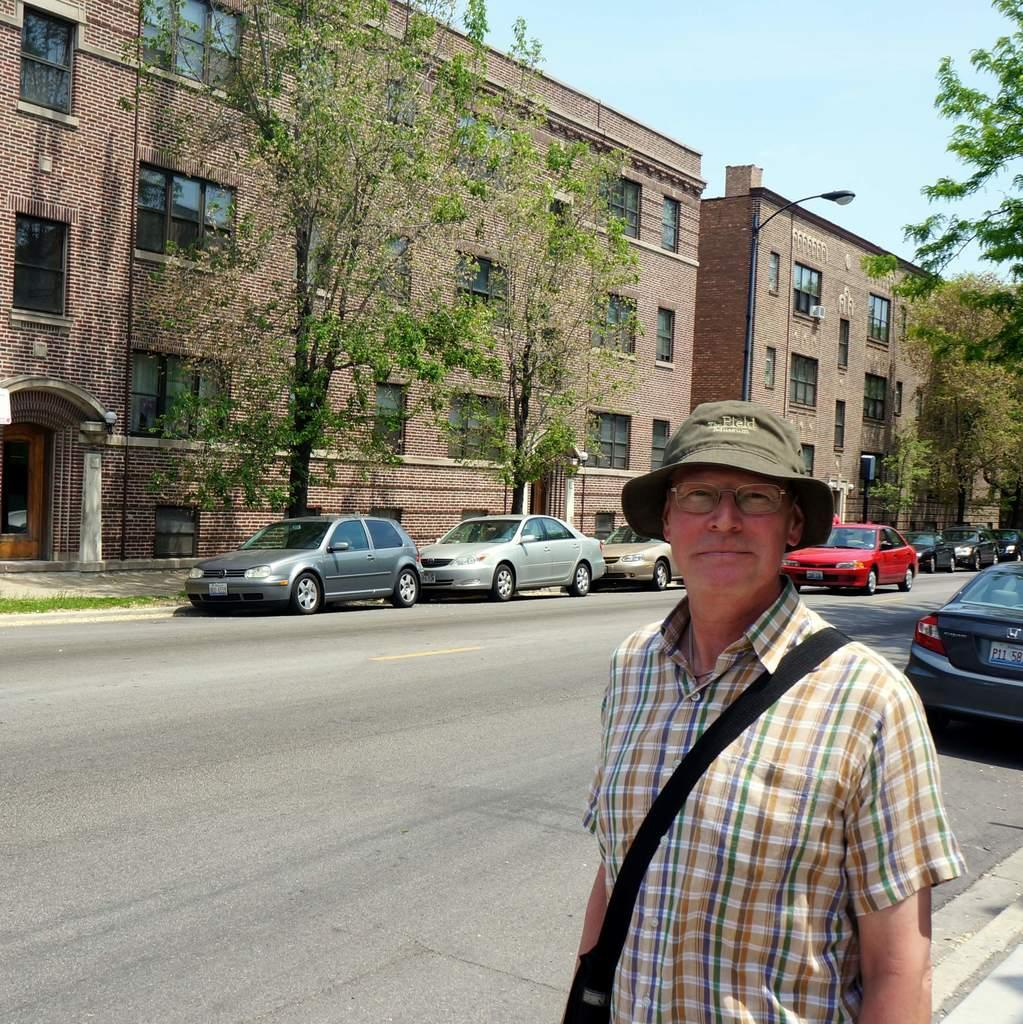Hat: (620, 400, 838, 552)
